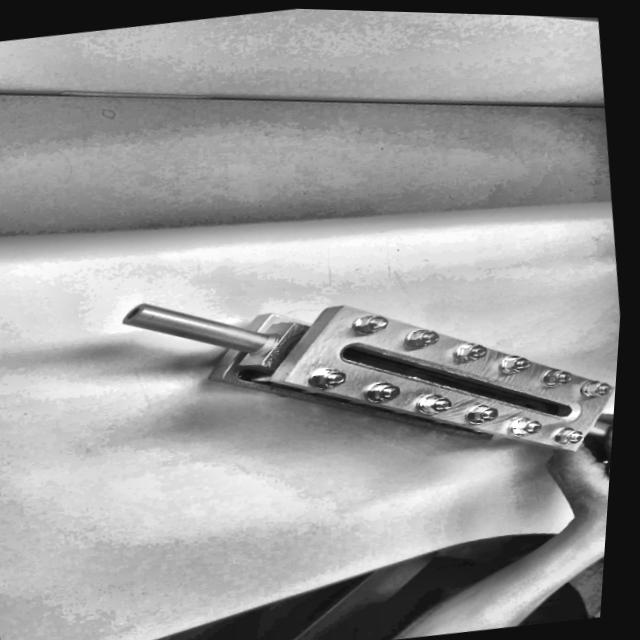ShuiWeiQi_12: (96, 230, 628, 512)
